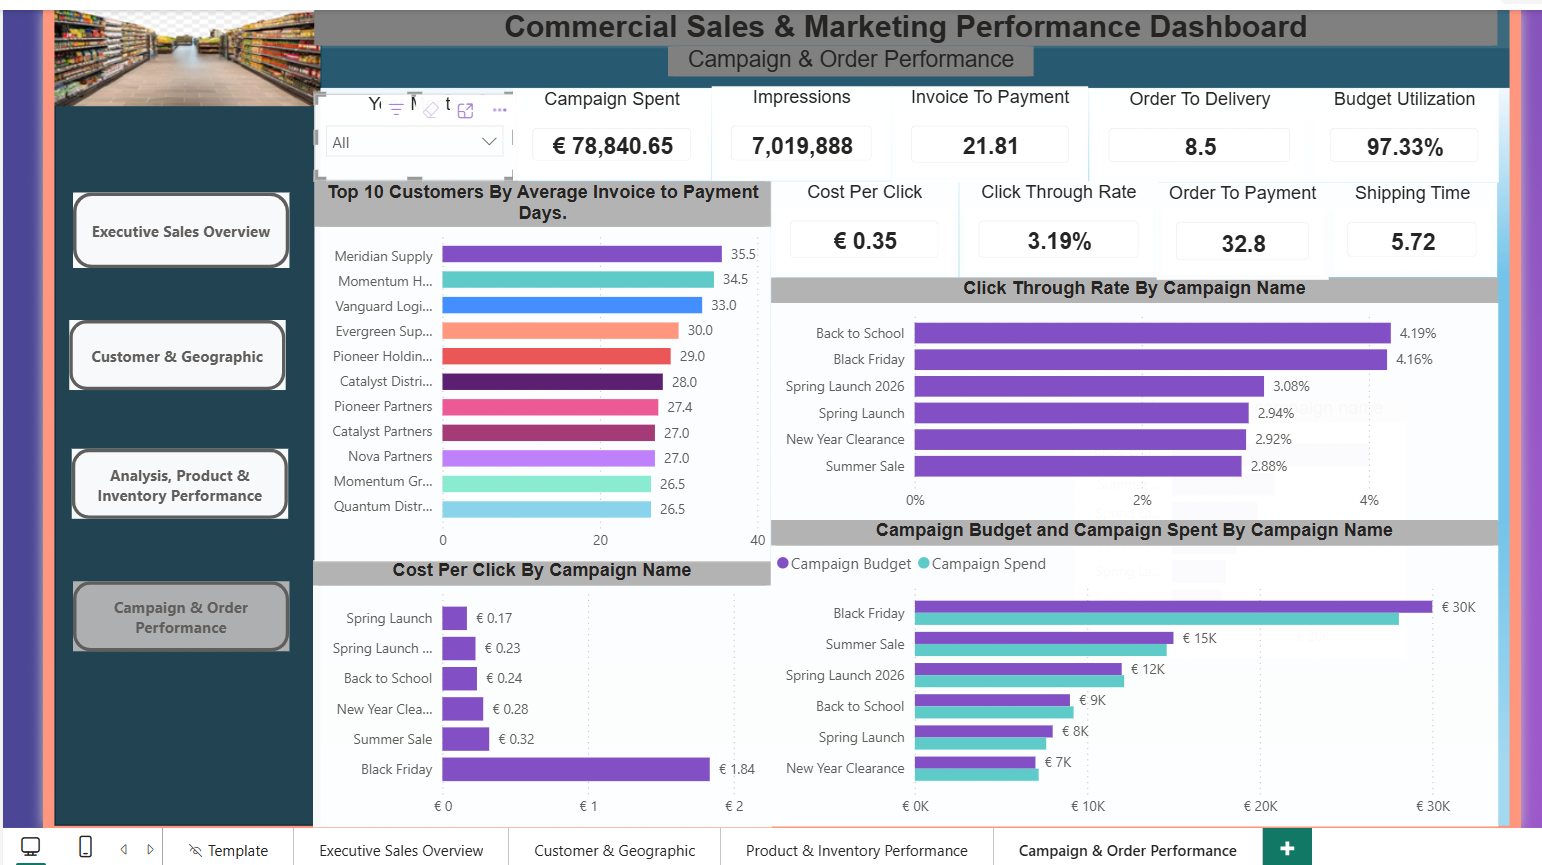

This screenshot's page, from the dashboard's own definition file:
{"tool":"powerbi","page":{"name":"Campaign & Order Performance","canvas":[1300,720],"ordinal":4},"visuals":[{"type":"actionButton","title":"Executive Sales Overview","box":[26.6,161,190,66.6],"z":0},{"type":"actionButton","box":[23,272.4,190,61.7],"z":1000},{"type":"actionButton","box":[25.4,386.1,190,61.7],"z":2000},{"type":"actionButton","box":[26.6,502.4,190,61.7],"z":3000},{"type":"slicer","title":"Year/Month","fields":{"Values":["dim_date.year","dim_date.month"]},"box":[238.7,73.8,176.5,76.7],"z":4000},{"type":"cardVisual","title":"Campaign Spent ","fields":{"Data":["_Measure.total_campaign_spent"]},"box":[414,69,174.3,81.1],"z":5000},{"type":"cardVisual","title":"Click Through Rate","fields":{"Data":["_Measure.click_through_rate"]},"box":[806.2,150.1,175.5,84.7],"z":6000},{"type":"cardVisual","title":"Impressions","fields":{"Data":["_Measure.total_impression"]},"box":[588.3,66.6,158.6,83.5],"z":7000},{"type":"cardVisual","title":"Budget Utilization ","fields":{"Data":["_Measure.budget_utilization_%"]},"box":[1114.9,69,165.8,82.3],"z":8000},{"type":"cardVisual","title":"Cost Per Click","fields":{"Data":["_Measure.cost_per_click"]},"box":[640.4,150.1,165.8,84.7],"z":9000},{"type":"clusteredBarChart","title":"campaign spent by campaign name","fields":{"Y":["_Measure.total_campaign_spent"],"Category":["dim_campaign.campaign_name"]},"box":[906.7,341.4,291.7,228.8],"z":10000},{"type":"clusteredBarChart","title":"Click Through Rate By Campaign Name","fields":{"Y":["_Measure.click_through_rate"],"Category":["dim_campaign.campaign_name"]},"box":[640.4,234.8,640.4,214.3],"z":11000},{"type":"clusteredBarChart","title":"Cost Per Click By Campaign Name","fields":{"Y":["_Measure.cost_per_click"],"Category":["dim_campaign.campaign_name"]},"box":[237.3,484.2,403.1,234.8],"z":12000},{"type":"clusteredBarChart","title":"Campaign Budget and Campaign Spent By Campaign Name","fields":{"Category":["dim_campaign.campaign_name"],"Y":["_Measure.total_campaign_budget","_Measure.total_campaign_spent"]},"box":[640.4,449.1,640.4,269.9],"z":13000},{"type":"cardVisual","title":"Order To Delivery","fields":{"Data":["_Measure.average_order_to_delivery_time"]},"box":[920,69,194.9,82.3],"z":14000},{"type":"cardVisual","title":"Order To Payment","fields":{"Data":["_Measure.average_order_to_pay"]},"box":[979.3,151.3,151.3,85.9],"z":15000},{"type":"cardVisual","title":"Shipping Time","fields":{"Data":["_Measure.average_shipping_time"]},"box":[1130.6,151.3,148.9,83.5],"z":16000},{"type":"cardVisual","title":"Invoice To Payment","fields":{"Data":["_Measure.average_invoice_to_payment"]},"box":[746.9,66.6,173.1,84.7],"z":17000},{"type":"clusteredBarChart","title":"Top 10 Customers By Average Invoice to Payment Days.","fields":{"Y":["_Measure.average_invoice_to_payment"],"Category":["Dim_Customer.customer_name"],"Series":["Dim_Customer.customer_name"]},"box":[238.5,150.1,401.9,334.1],"z":18000},{"type":"textbox","title":"Commercial Sales & Marketing Performance Dashboard","box":[238.5,0,1041,31.5],"z":18001},{"type":"textbox","title":"Campaign & Order Performance","box":[549.6,31.5,322,26.6],"z":18002}]}

Visuals, with their boxes on the page's 1300x720 design canvas (x1, y1, x2, y2). These are canvas units, not pixel positions in the 1542x865 screenshot, which may show the page scaled, cropped or inside an application window:
"Executive Sales Overview" actionButton: [left=27, top=161, right=217, bottom=228]
actionButton: [left=23, top=272, right=213, bottom=334]
actionButton: [left=25, top=386, right=215, bottom=448]
actionButton: [left=27, top=502, right=217, bottom=564]
"Year/Month" slicer: [left=239, top=74, right=415, bottom=150]
"Campaign Spent " cardVisual: [left=414, top=69, right=588, bottom=150]
"Click Through Rate" cardVisual: [left=806, top=150, right=982, bottom=235]
"Impressions" cardVisual: [left=588, top=67, right=747, bottom=150]
"Budget Utilization " cardVisual: [left=1115, top=69, right=1281, bottom=151]
"Cost Per Click" cardVisual: [left=640, top=150, right=806, bottom=235]
"campaign spent by campaign name" clusteredBarChart: [left=907, top=341, right=1198, bottom=570]
"Click Through Rate By Campaign Name" clusteredBarChart: [left=640, top=235, right=1281, bottom=449]
"Cost Per Click By Campaign Name" clusteredBarChart: [left=237, top=484, right=640, bottom=719]
"Campaign Budget and Campaign Spent By Campaign Name" clusteredBarChart: [left=640, top=449, right=1281, bottom=719]
"Order To Delivery" cardVisual: [left=920, top=69, right=1115, bottom=151]
"Order To Payment" cardVisual: [left=979, top=151, right=1131, bottom=237]
"Shipping Time" cardVisual: [left=1131, top=151, right=1280, bottom=235]
"Invoice To Payment" cardVisual: [left=747, top=67, right=920, bottom=151]
"Top 10 Customers By Average Invoice to Payment Days." clusteredBarChart: [left=238, top=150, right=640, bottom=484]
"Commercial Sales & Marketing Performance Dashboard" textbox: [left=238, top=0, right=1280, bottom=32]
"Campaign & Order Performance" textbox: [left=550, top=32, right=872, bottom=58]
